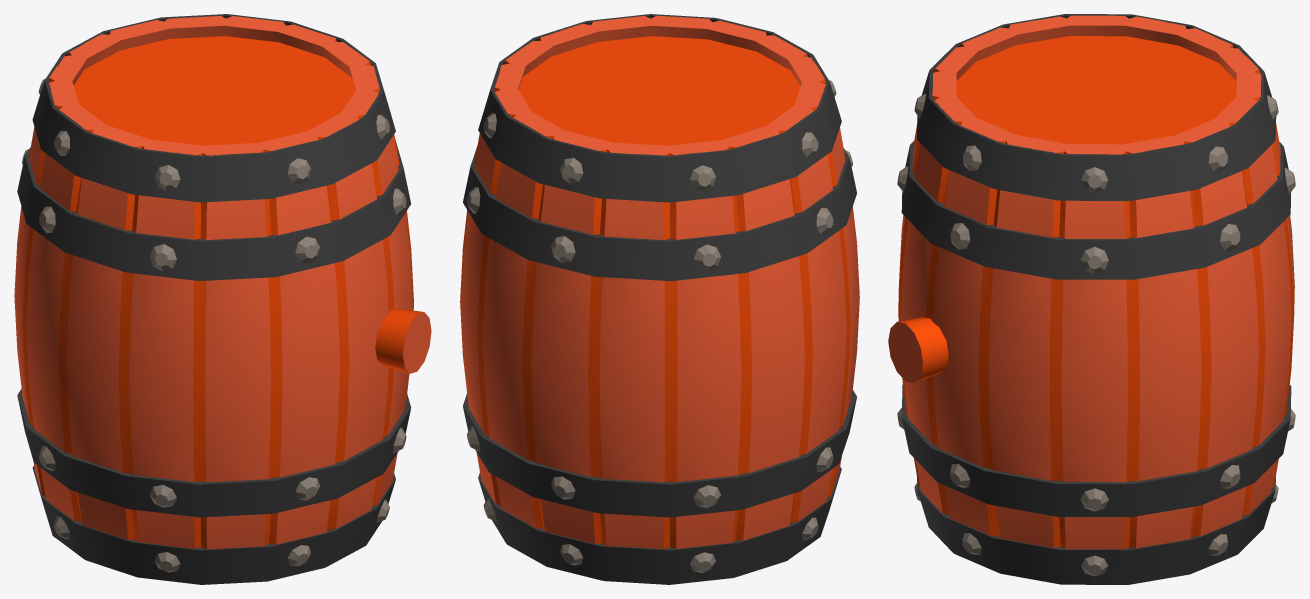
Rendered from item19.glb.
The picture shows the model from 3 angles, left to right: view 1: azimuth 30°, elevation 25°; view 2: azimuth 150°, elevation 25°; view 3: azimuth 270°, elevation 25°; orthographic projection.
Parts seen in each view (by area): view 1: Item19; view 2: Item19; view 3: Item19.
Boxes of the visible parts, x1,y1,x2,y2 form: Item19: (14,14,431,584); Item19: (460,14,859,584); Item19: (888,14,1295,584).
Size of what is drawn, in the model's own units: 0.3806 by 0.4523 by 0.3893.
Materials: 1 (1 with a texture image).
